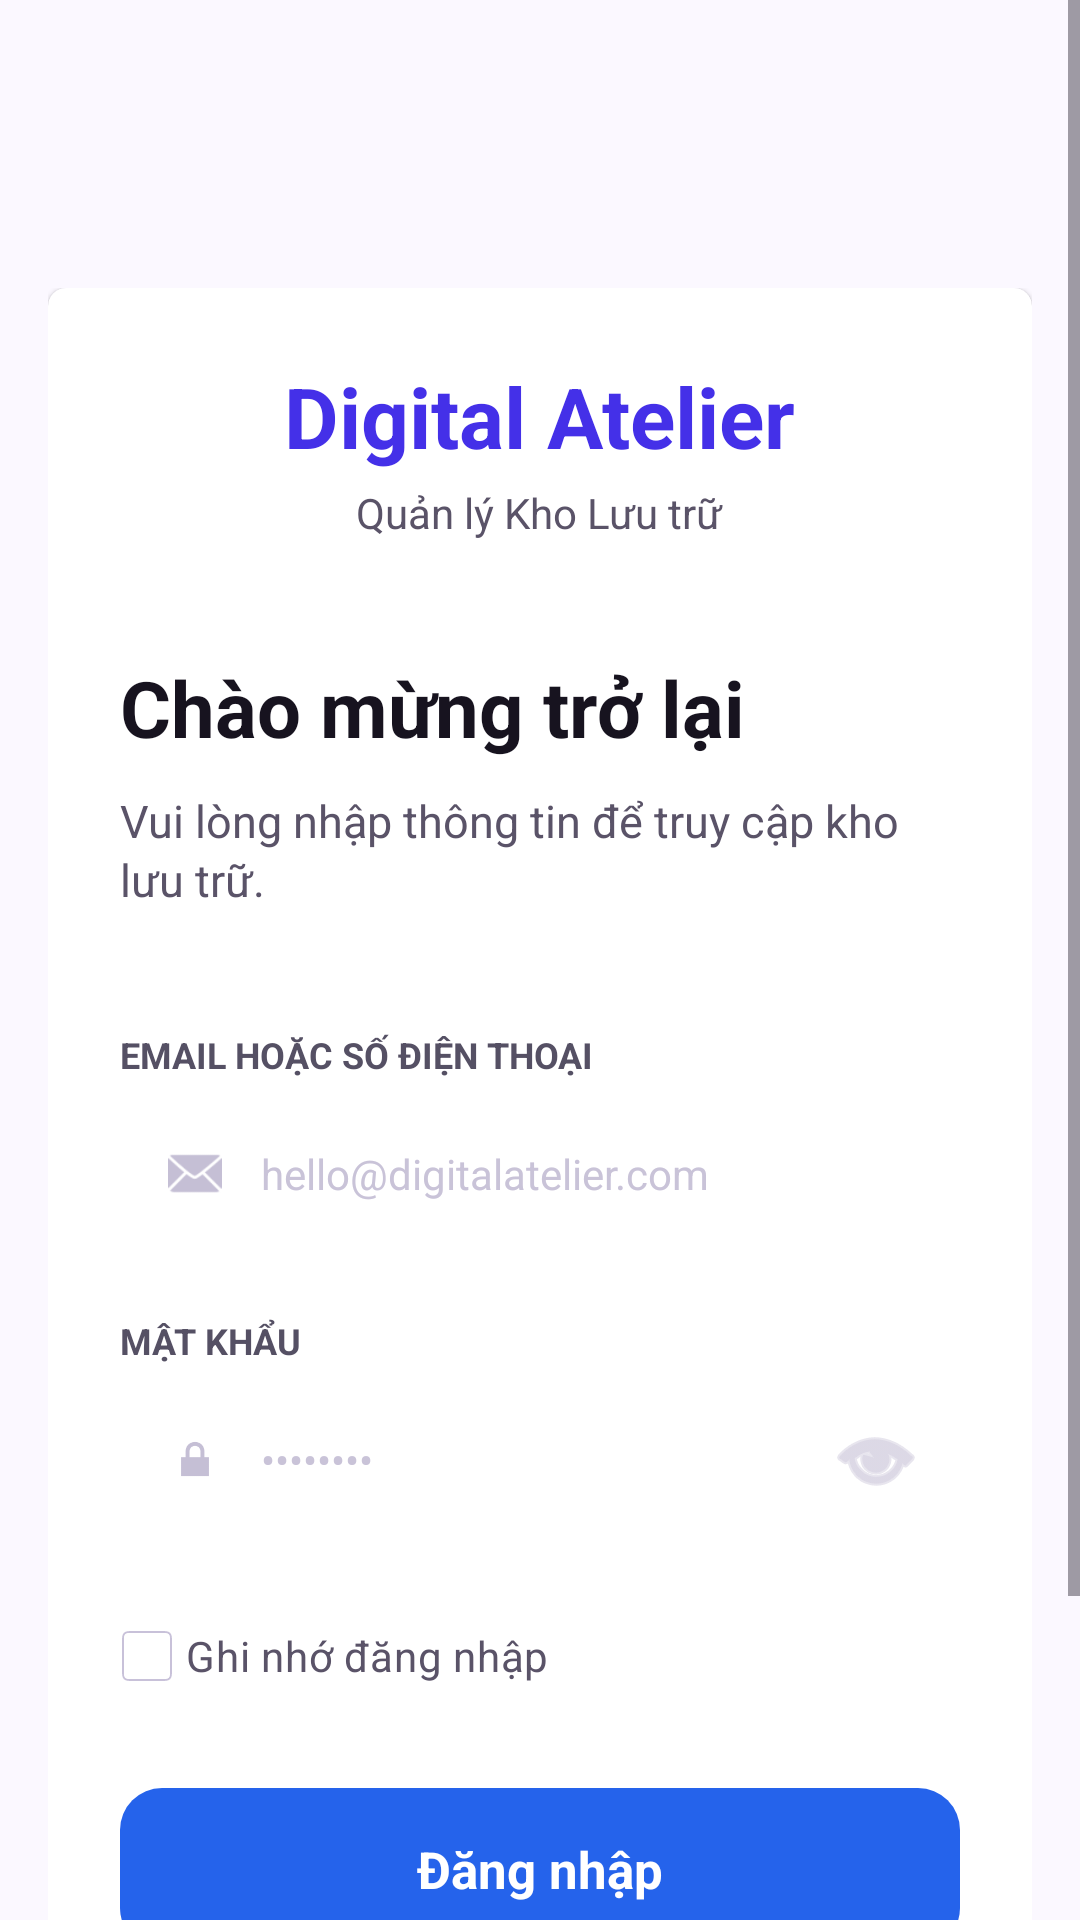

Screen size 1080x1920. Icon name, then its box in pixels as (x1, y1, x2, y2):
lock: (181, 1442, 209, 1476)
